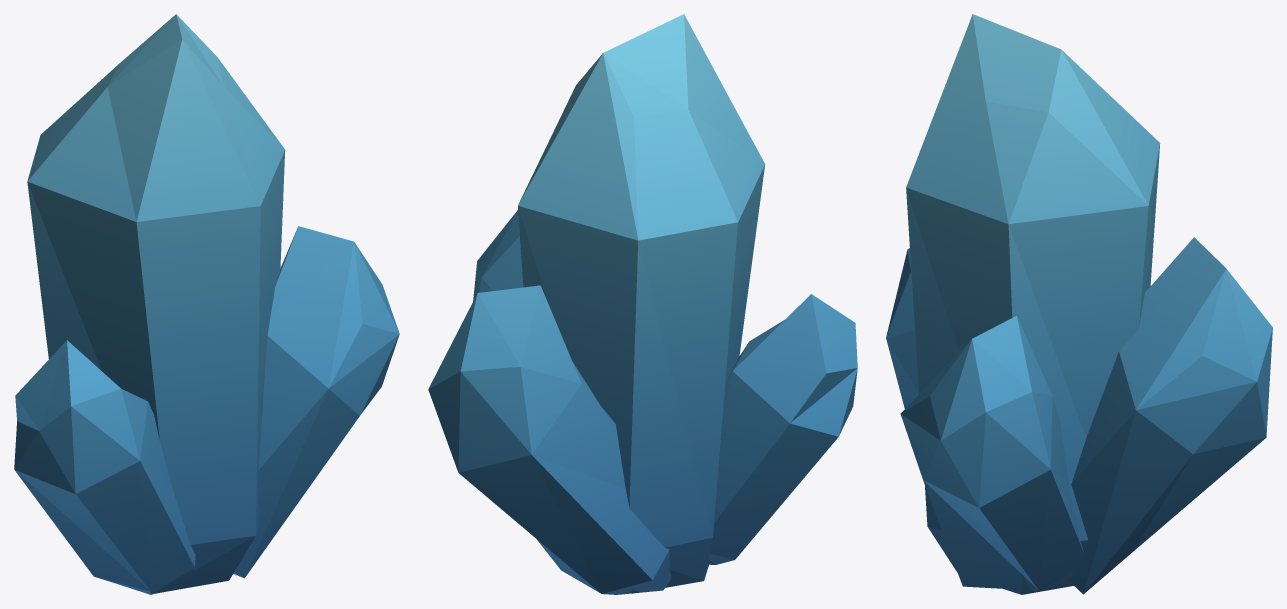
File: Crystal_05.fbx
3 views of the same model, side by side, from view 1: azimuth 30°, elevation 25°; view 2: azimuth 150°, elevation 25°; view 3: azimuth 270°, elevation 25° (orthographic). The views are drawn at different scales.
Parts seen in each view (by area): view 1: Crystal_05; view 2: Crystal_05; view 3: Crystal_05.
Boxes of the visible parts, x1,y1,x2,y2 form: Crystal_05: (14, 14, 399, 594); Crystal_05: (428, 14, 857, 594); Crystal_05: (886, 14, 1272, 594).
Bounding box in the file's own units: 0.9065 × 1.29 × 0.8262.
